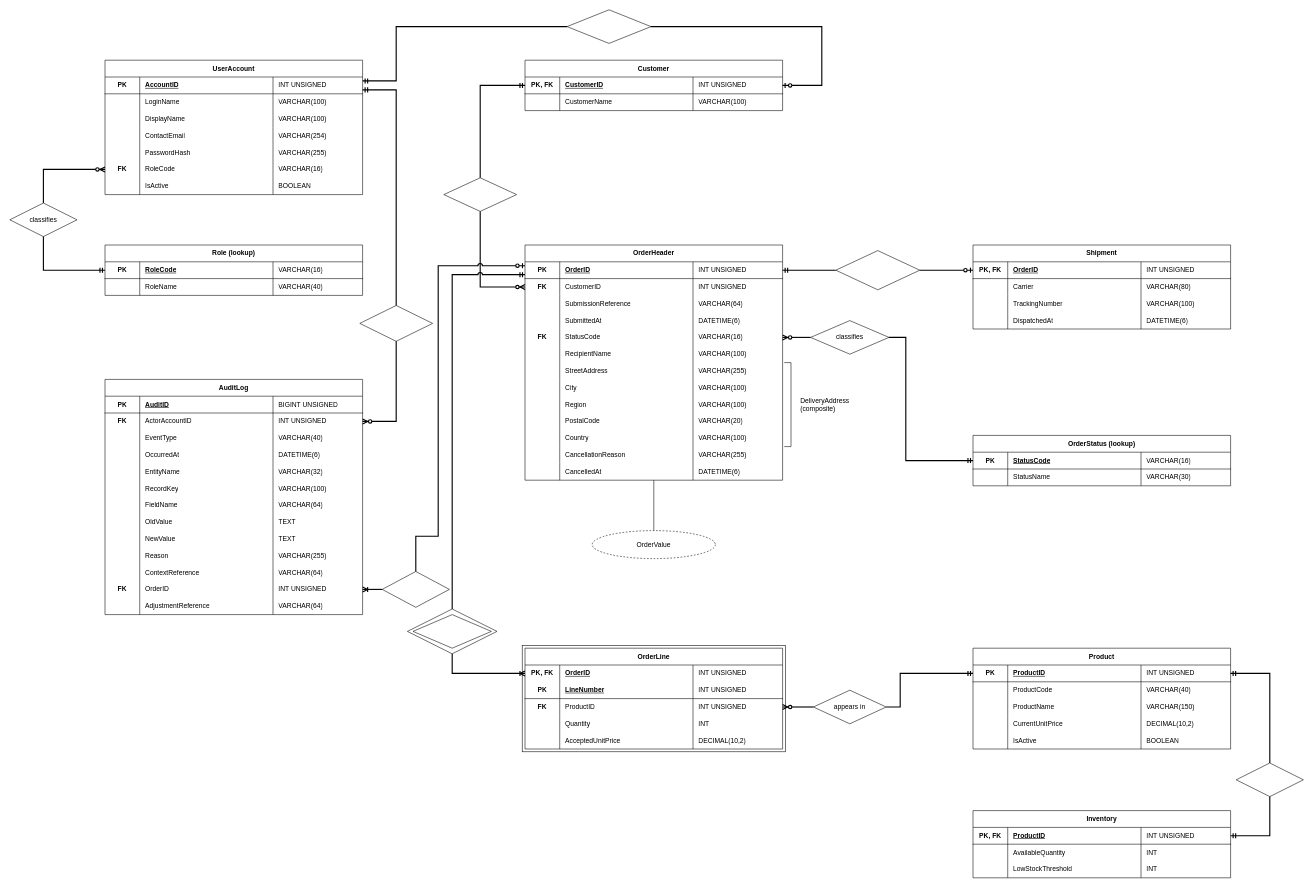
This 1313x888 diagram has some shape labels left out. The shapes that lost their labels are listed below. From the top down, each one's centre as x and y in pixels, then its label:
(x=608, y=26): has profile
(x=480, y=194): places
(x=877, y=270): has shipment
(x=396, y=323): performs
(x=415, y=589): has history
(x=451, y=631): contains
(x=1269, y=779): has stock
